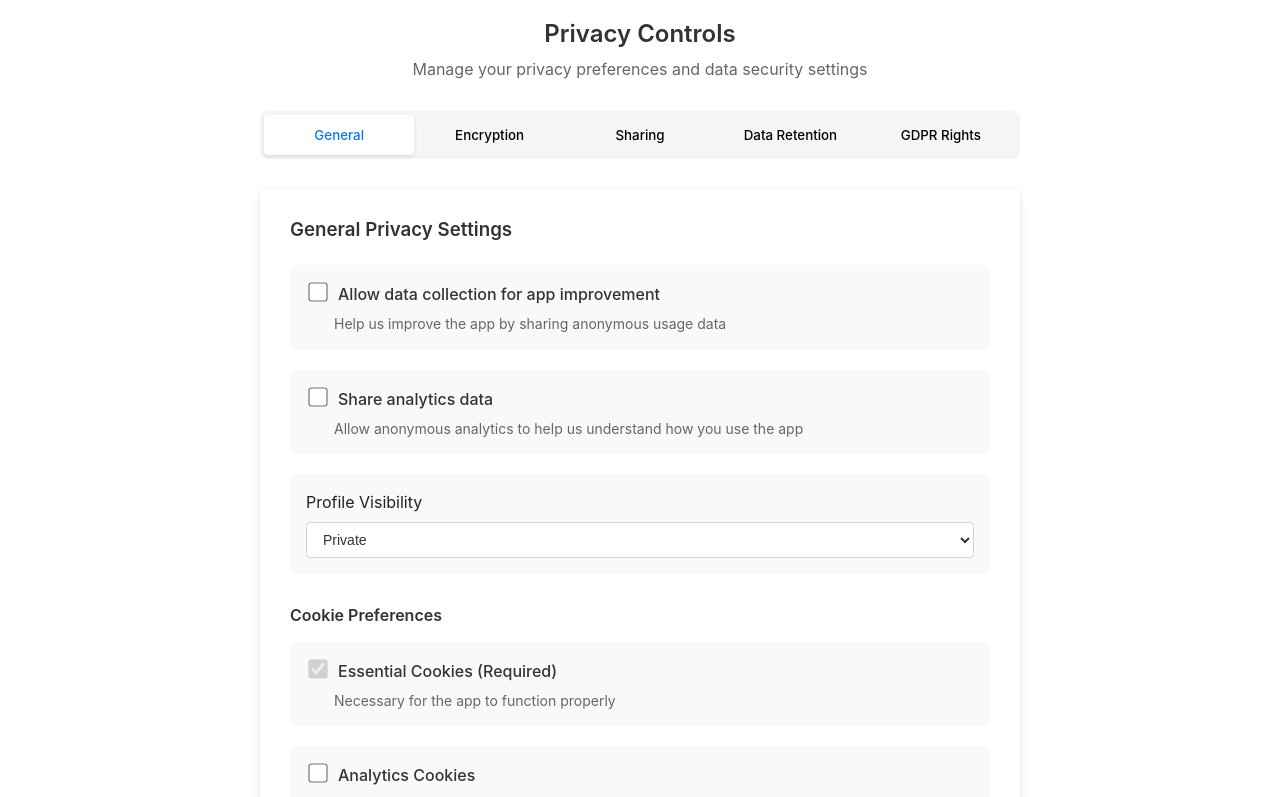
Test: PrivacyControlsComponent › Encryption Tab › should show password modal when enabling encryption
The image size is (1280, 797).
Click the button "Encryption".
click(490, 135)  # box left=414, top=115, right=565, bottom=155
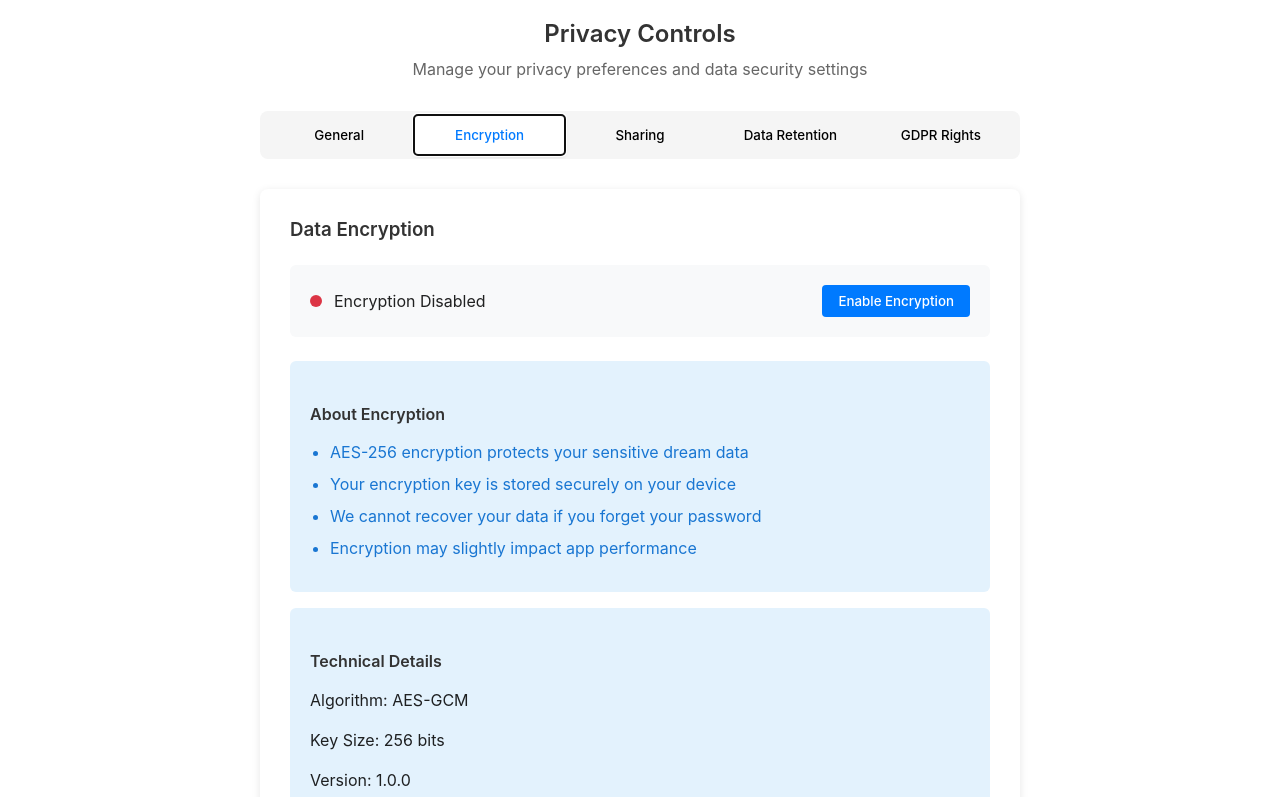
Click the button "Enable Encryption".
click(896, 301)  # box left=822, top=285, right=970, bottom=317
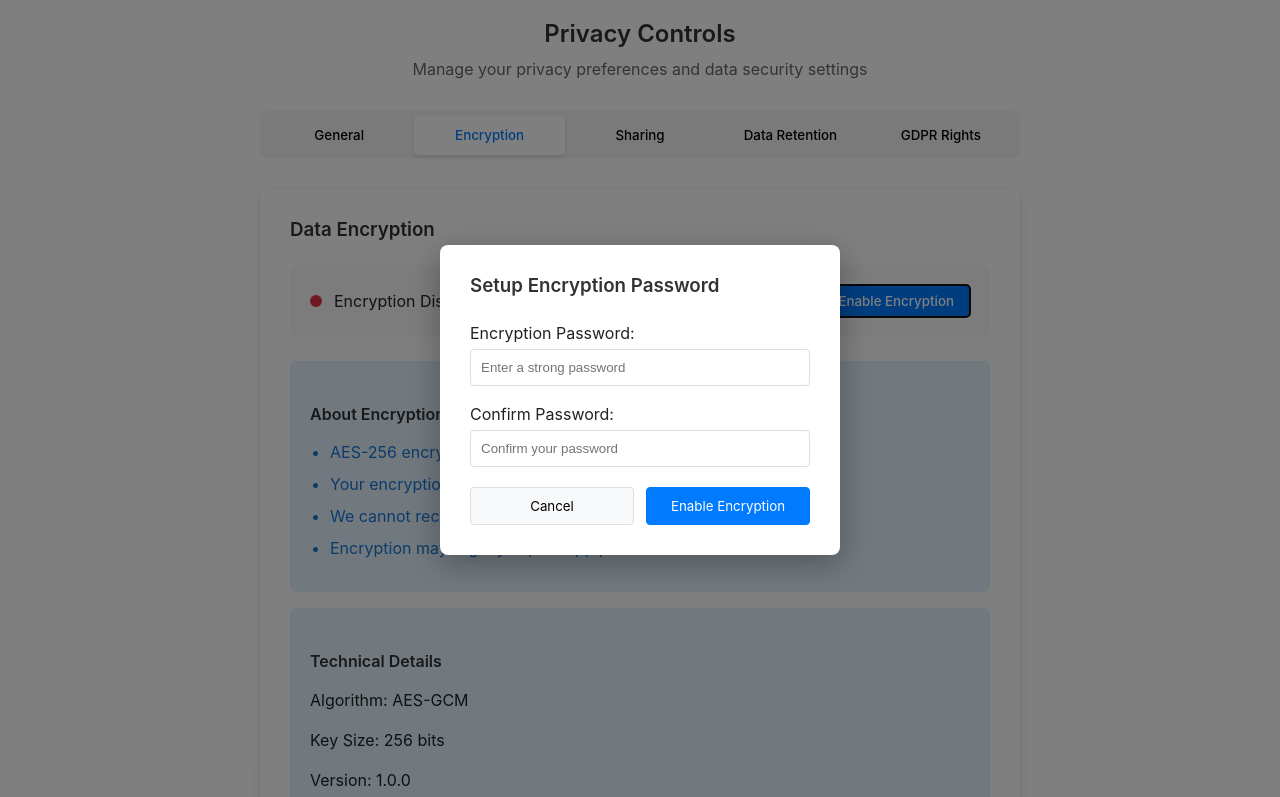
Expected: the heading "Setup Encryption Password" is shown, left=470, top=274, right=719, bottom=297
Expected: the password field with placeholder "Enter a strong password" is shown, left=470, top=349, right=810, bottom=386
Expected: the password field with placeholder "Confirm your password" is shown, left=470, top=430, right=810, bottom=467
